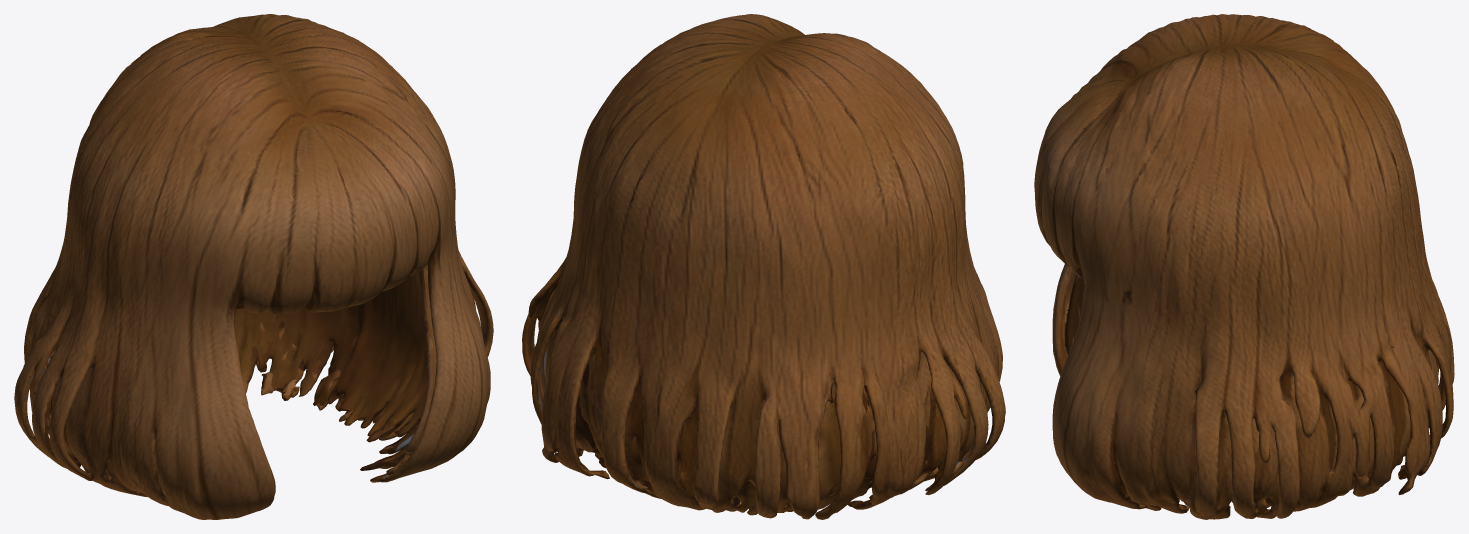
Rendered from hair_short.fbx.
3 views of the same model, side by side, from view 1: azimuth 30°, elevation 25°; view 2: azimuth 150°, elevation 25°; view 3: azimuth 270°, elevation 25° (orthographic).
Visible parts, largest first — view 1: material_0.001; view 2: material_0.001; view 3: material_0.001.
Boxes of the visible parts, x1,y1,x2,y2 form: material_0.001: (14, 14, 493, 519); material_0.001: (522, 14, 1005, 519); material_0.001: (1034, 14, 1454, 519).
Size of the model in its own units: 67.41 by 61.7 by 55.73.
Materials: 1 (1 with a texture image).
